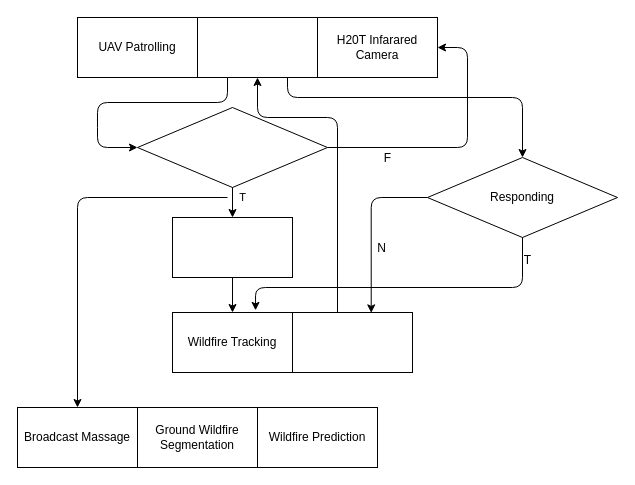
Some shapes in this 635 by 485 pixel diagram are drawn without their labels. Here are the shapes that lost their labels. From the top down, the centre of each, then its label:
pixel 257 47: Wildfire Image Classification
pixel 232 147: Suspect Wildfire?
pixel 232 247: On-board Wildfire Segmentation
pixel 352 342: Require Information
